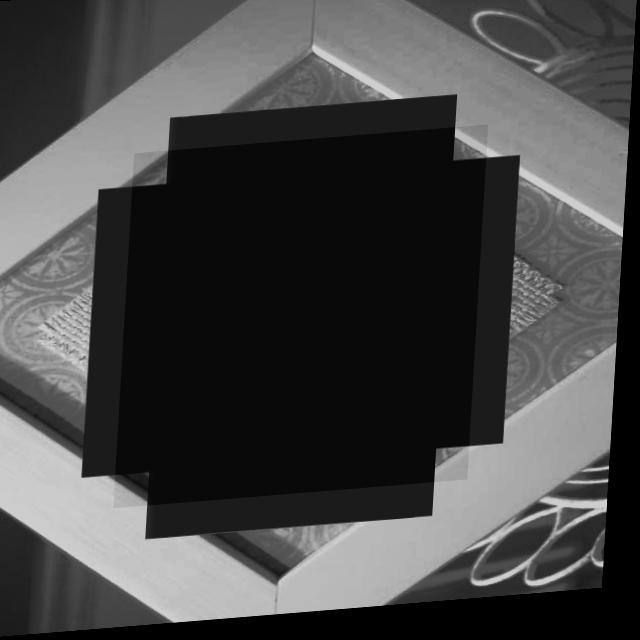qr_code: (120, 132, 490, 510)
